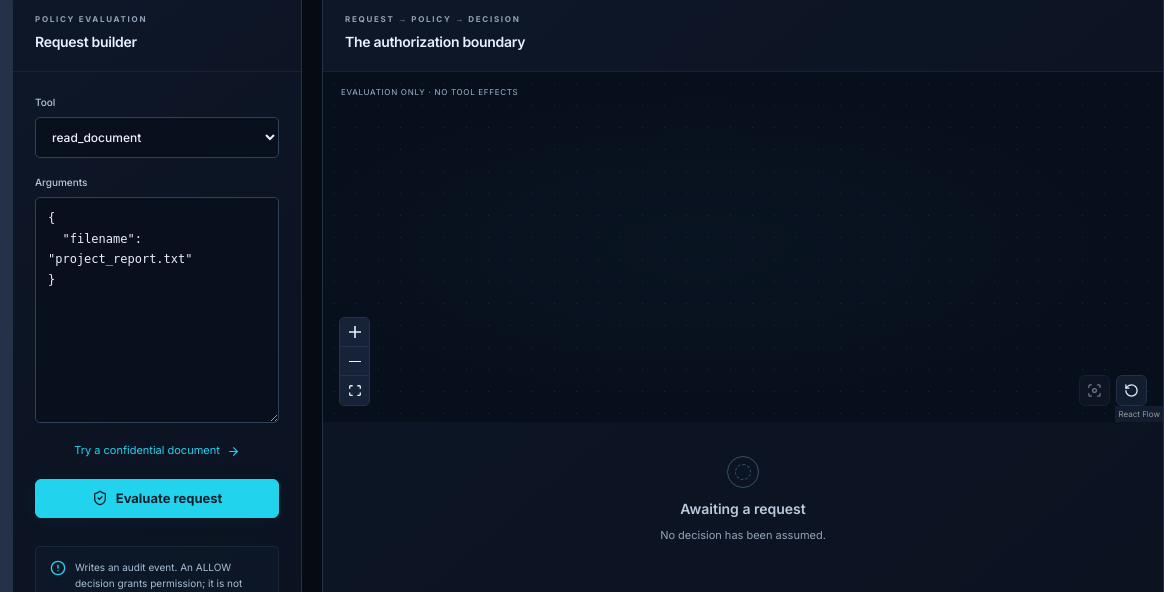
Test case: firewall workbench › shows API failures instead of an invented decision
The width and height of the screenshot is (1164, 592).
Step 1. Click the button "Evaluate request" → (157, 498), box [35,479,279,518]
(page scrolled)
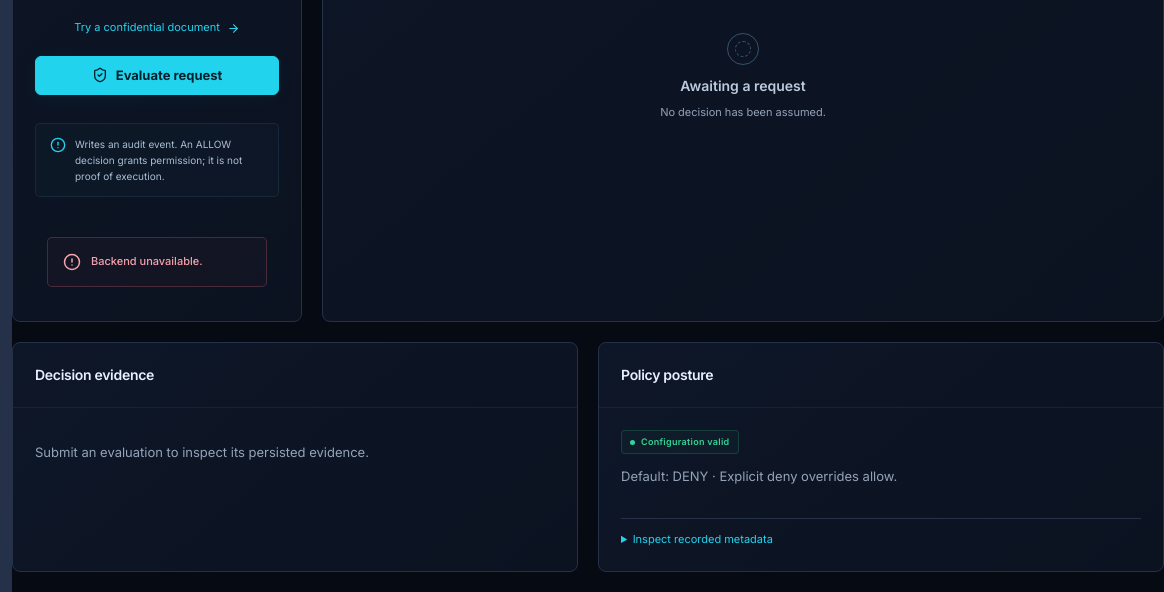
Expected: the text "Backend unavailable." is shown, [91,254,202,268]
